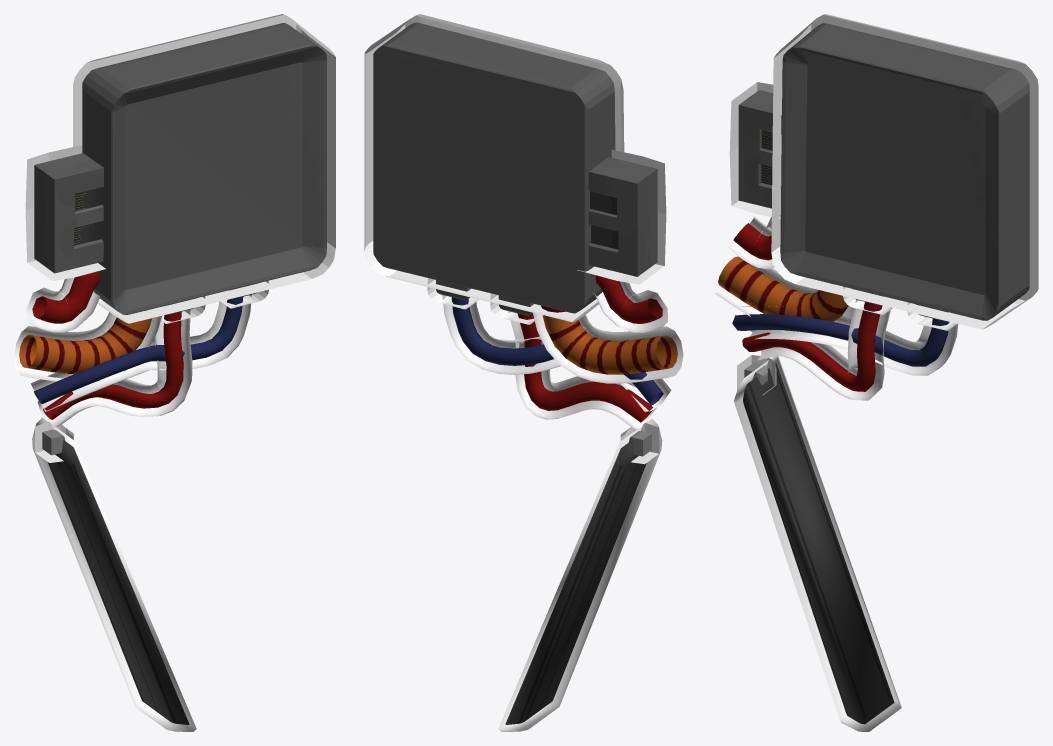
Rendered from tablet_ui_3d_model_addon.glb.
3 renders of one model, left to right at view 1: azimuth 30°, elevation 25°; view 2: azimuth 150°, elevation 25°; view 3: azimuth 330°, elevation 25°, orthographic. The views are drawn at different scales.
Parts seen in each view (by area): view 1: tablet_addon; view 2: tablet_addon; view 3: tablet_addon.
Part boxes in pixels (box(x1,y1,x2,y2)): tablet_addon: box(14, 14, 335, 731); tablet_addon: box(364, 14, 683, 731); tablet_addon: box(714, 14, 1038, 731).
Size of the model in its own units: 0.1955 by 0.4171 by 0.0474.
Materials: 10 (8 with a texture image).
